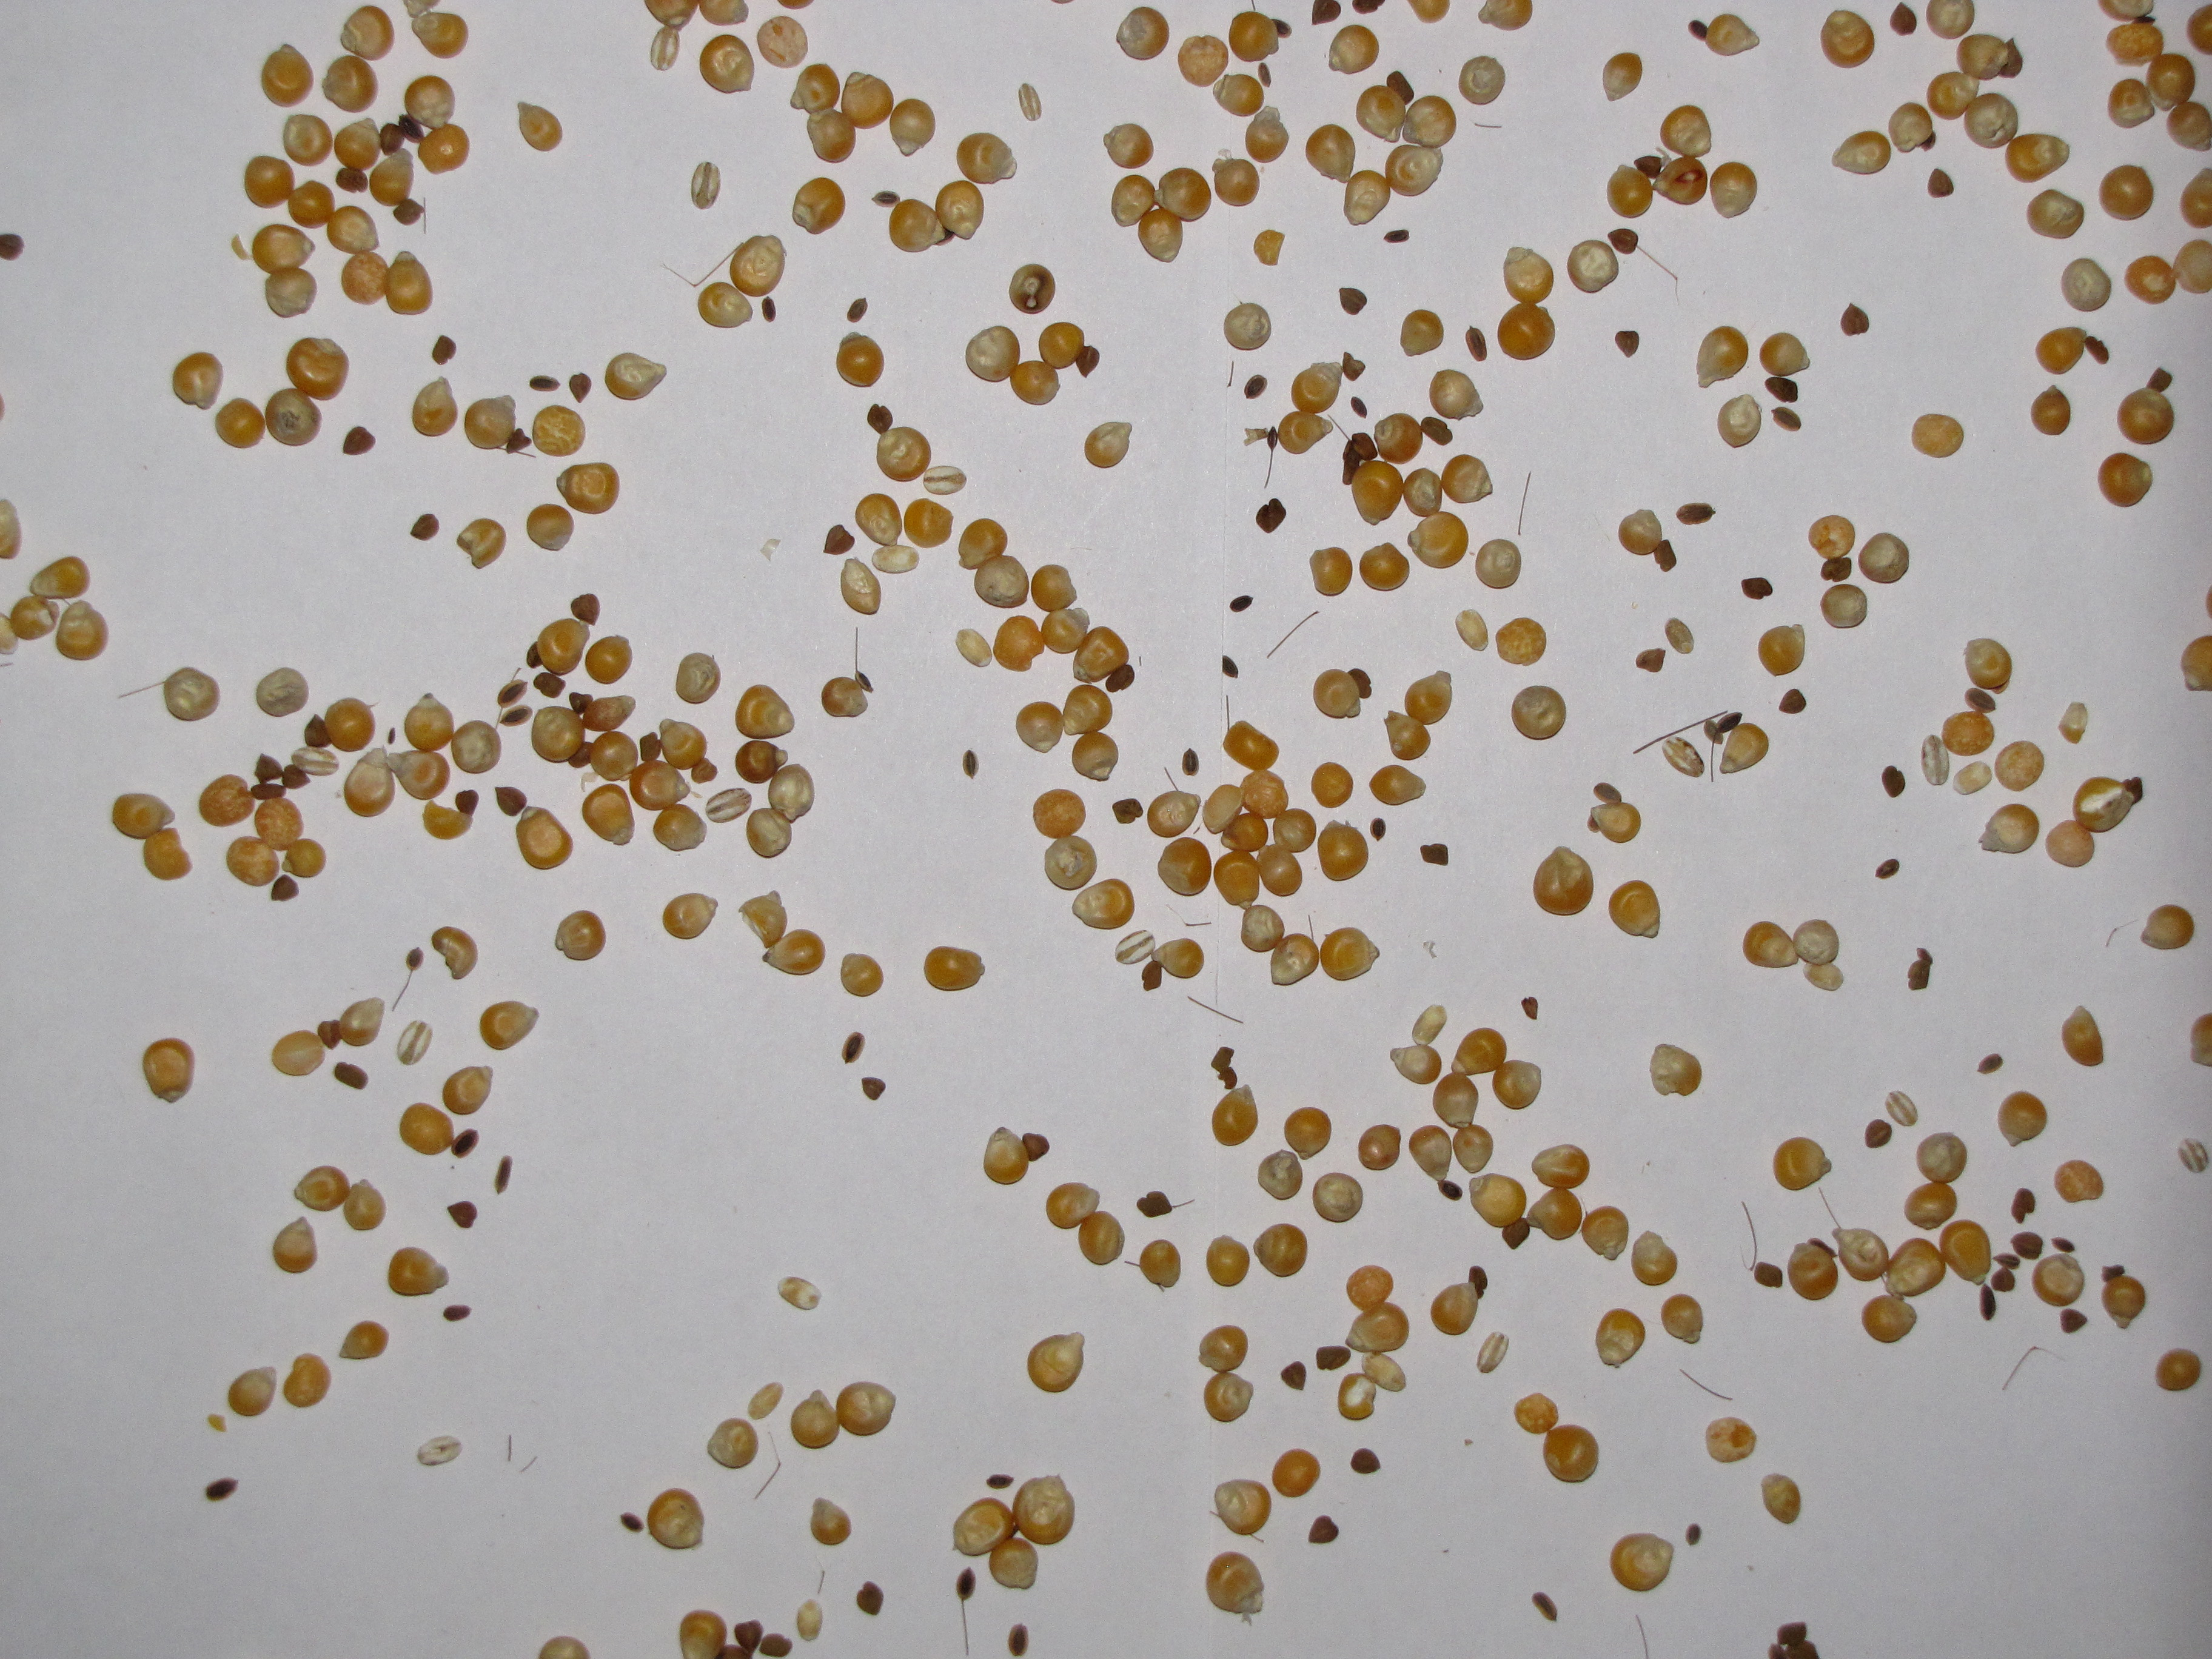mais: (1409, 1125, 1463, 1201), (821, 643, 874, 718), (1147, 768, 1201, 838), (1618, 509, 1677, 572), (1741, 1201, 1783, 1288), (1587, 782, 1641, 843), (1595, 1308, 1646, 1369), (605, 352, 667, 401), (172, 352, 224, 410), (479, 1000, 539, 1050), (1253, 1223, 1307, 1278), (2026, 189, 2085, 240), (1116, 7, 1170, 61), (532, 404, 586, 457), (1997, 1091, 2048, 1147), (412, 376, 458, 437), (1567, 240, 1619, 293), (1429, 369, 1484, 421), (923, 946, 985, 991), (1709, 161, 1758, 219), (1649, 1044, 1702, 1096), (2061, 258, 2111, 312), (1580, 1205, 1629, 1261), (757, 16, 808, 69), (255, 667, 309, 717), (890, 98, 936, 157), (836, 332, 885, 387), (1178, 35, 1228, 87), (662, 893, 719, 940), (1858, 532, 1909, 584), (554, 910, 606, 961), (1312, 1172, 1364, 1223), (1430, 1282, 1479, 1336), (1631, 1230, 1678, 1286), (1994, 740, 2045, 792), (1329, 24, 1379, 75), (457, 518, 506, 569), (442, 1065, 494, 1115), (2062, 1005, 2103, 1067), (1284, 1107, 1332, 1160), (1245, 106, 1289, 163), (2140, 904, 2195, 950), (903, 498, 954, 548), (1495, 617, 1547, 666), (431, 926, 478, 980), (1359, 542, 1410, 592), (1758, 624, 1805, 677), (1717, 394, 1762, 448), (1888, 102, 1936, 153), (1272, 1449, 1321, 1498), (1705, 1416, 1757, 1463), (840, 557, 882, 615), (1911, 414, 1965, 458), (1212, 158, 1260, 207), (1008, 264, 1056, 314), (1475, 538, 1521, 589), (1759, 332, 1811, 378), (1224, 301, 1272, 350), (585, 635, 632, 685), (1458, 56, 1506, 106), (1369, 765, 1426, 806), (1103, 123, 1154, 169), (1258, 1149, 1303, 1201), (1206, 1235, 1250, 1287), (526, 503, 574, 551), (1084, 421, 1132, 469), (517, 102, 563, 152), (1213, 74, 1264, 117), (1309, 547, 1353, 597), (1661, 1293, 1703, 1344), (1820, 584, 1868, 629), (1400, 309, 1444, 357), (2031, 385, 2071, 435), (1358, 1124, 1401, 1171), (1602, 52, 1643, 101), (339, 1321, 389, 1360), (1311, 762, 1353, 808), (810, 1498, 851, 1546), (840, 953, 884, 997), (705, 788, 752, 823), (1188, 996, 1243, 1024), (955, 628, 993, 668), (1455, 609, 1489, 652), (1253, 229, 1285, 266), (1211, 1047, 1238, 1090), (1256, 498, 1287, 534), (823, 525, 855, 555), (1136, 1191, 1173, 1218), (343, 426, 376, 455), (334, 1062, 369, 1090), (856, 1581, 884, 1615), (1840, 303, 1869, 336), (2010, 1232, 2043, 1260), (1889, 2, 1917, 36), (1676, 503, 1716, 525), (1765, 377, 1798, 403), (1316, 1346, 1351, 1370), (2011, 1188, 2036, 1224), (1309, 1515, 1339, 1544), (447, 1201, 477, 1228), (1607, 228, 1638, 255), (1112, 798, 1144, 824), (1865, 1119, 1892, 1148), (867, 404, 893, 435), (1465, 326, 1487, 361), (1339, 287, 1367, 315), (1882, 765, 1906, 798), (410, 514, 439, 541), (1928, 169, 1954, 198), (1281, 1361, 1307, 1390), (1350, 1448, 1380, 1474), (1771, 406, 1801, 432), (271, 874, 299, 902), (1532, 1592, 1557, 1621), (432, 335, 457, 365), (1635, 648, 1666, 672), (1778, 688, 1806, 714), (1741, 577, 1773, 600), (569, 372, 592, 403), (1468, 1265, 1488, 1299), (1615, 330, 1640, 358), (2060, 1309, 2087, 1333), (1420, 843, 1449, 866), (1244, 374, 1268, 399), (862, 1077, 886, 1101), (1977, 1053, 2003, 1074), (847, 298, 868, 323), (529, 375, 560, 392), (1875, 859, 1900, 879), (1182, 748, 1199, 776), (443, 1305, 471, 1322), (1521, 996, 1538, 1020), (987, 1474, 1014, 1489), (1230, 595, 1253, 612), (762, 296, 776, 323), (1222, 655, 1238, 679), (1370, 818, 1386, 841), (1350, 397, 1367, 418), (1384, 229, 1409, 243), (387, 728, 395, 745), (657, 751, 668, 763), (421, 125, 432, 137), (1475, 123, 1501, 128), (1185, 922, 1212, 927), (1249, 850, 1259, 859)
